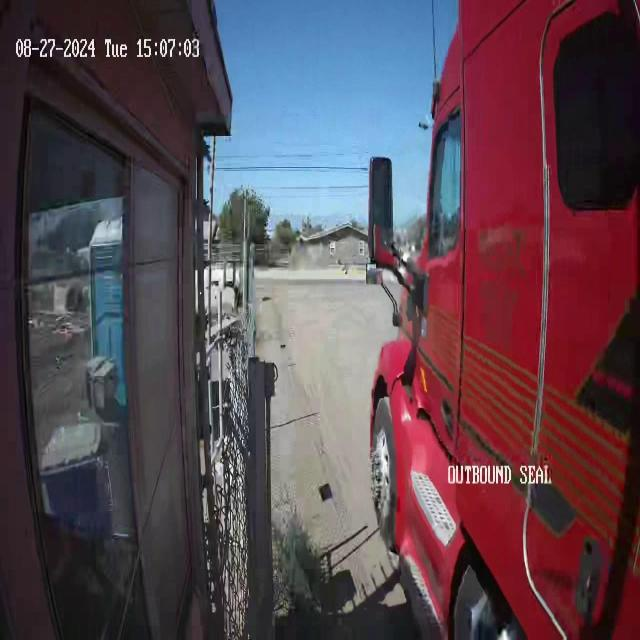TRUCK_OUT: (365, 1, 639, 638)
